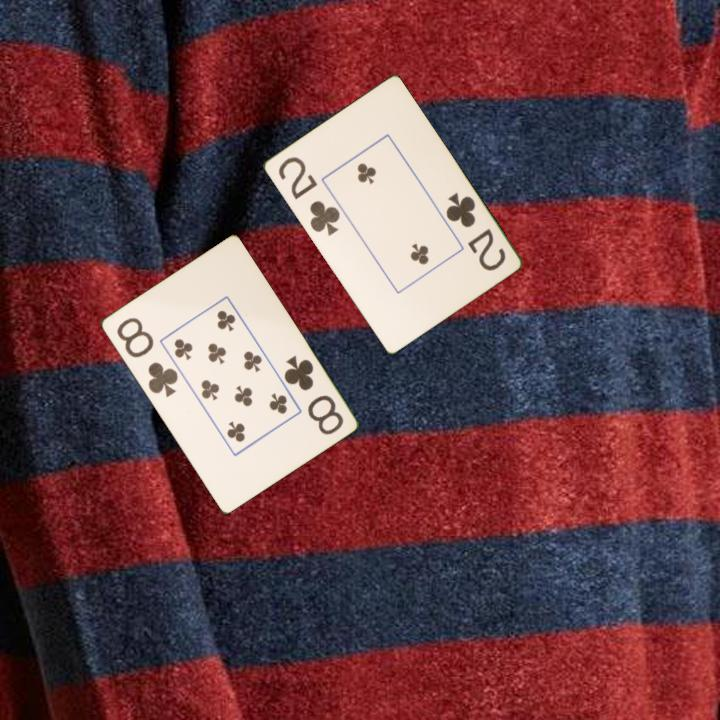2c: (274, 153, 343, 239), (442, 189, 508, 274)
8c: (112, 314, 181, 400), (280, 352, 346, 438)
